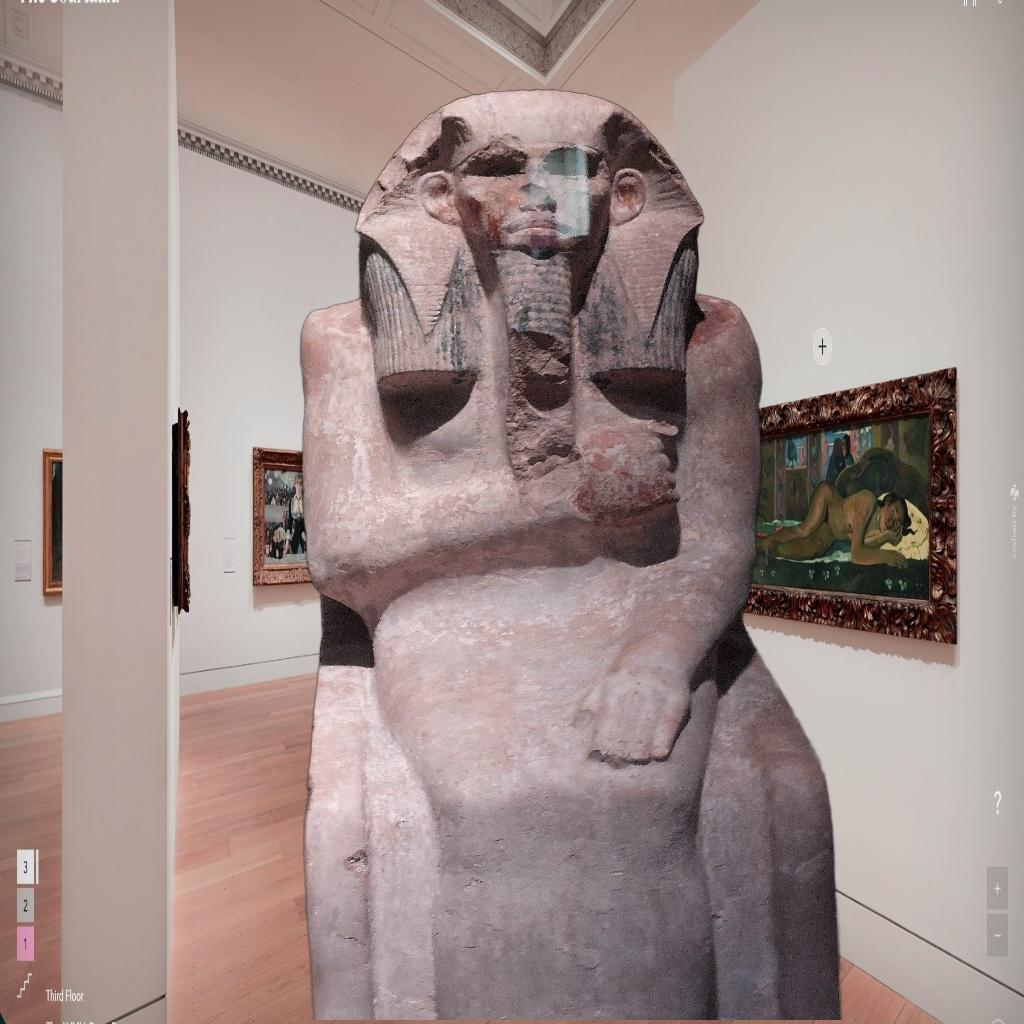Seated Statue of Djoser: (292, 84, 847, 1020)
